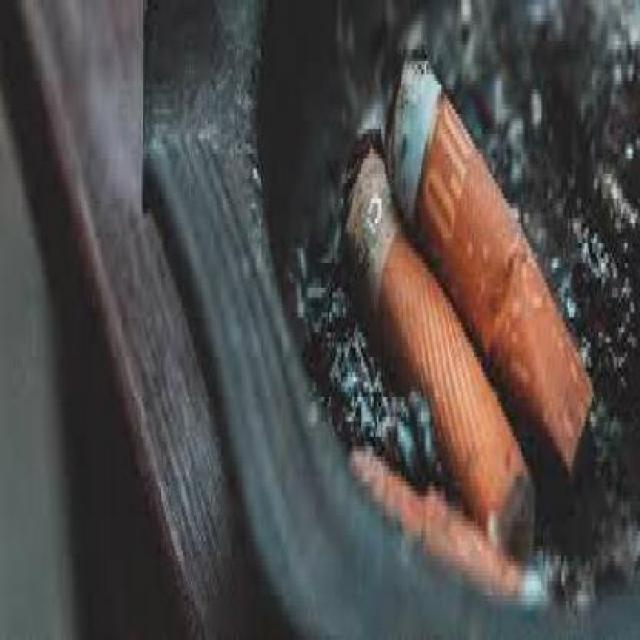cigarette: (389, 54, 588, 472), (338, 119, 548, 502), (322, 432, 541, 606)
